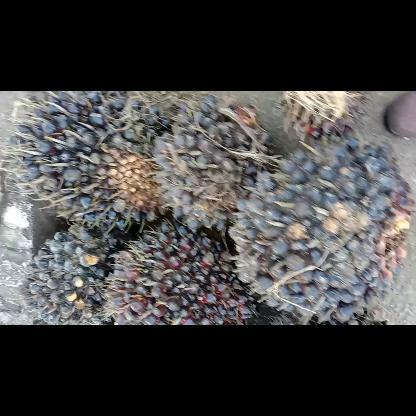TBS mentah: (228, 134, 414, 324), (0, 90, 177, 232), (150, 94, 274, 234), (100, 228, 264, 324), (18, 220, 127, 324)
